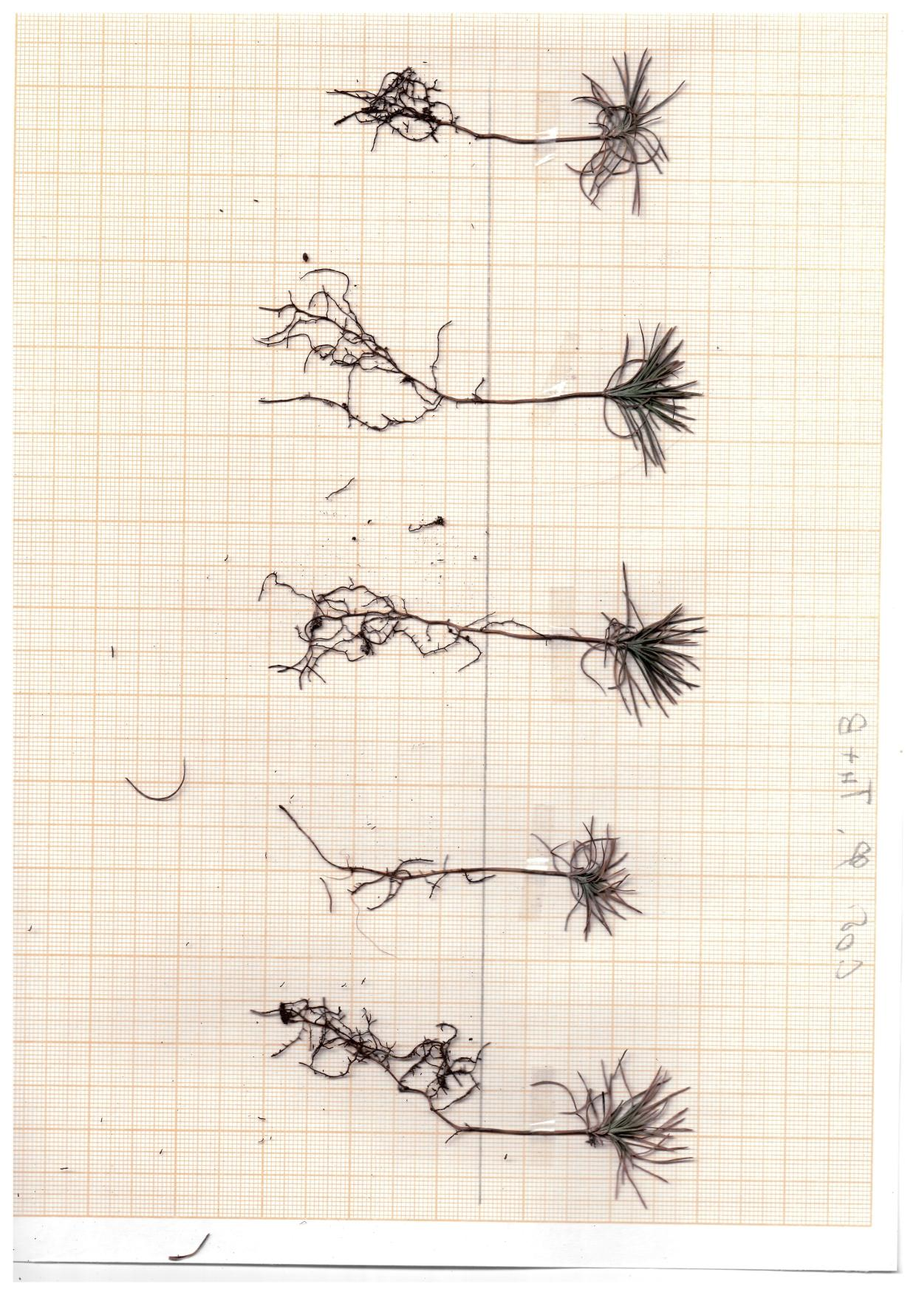root: (248, 263, 461, 442), (248, 993, 491, 1136), (254, 568, 481, 699), (274, 802, 455, 922), (325, 58, 470, 154)
seeding: (566, 43, 697, 220), (579, 1041, 697, 1213), (592, 559, 711, 726), (598, 318, 705, 482), (546, 813, 647, 942)
stem: (468, 385, 606, 412), (446, 1120, 587, 1144), (481, 625, 607, 650), (471, 129, 602, 147), (458, 863, 565, 881)
